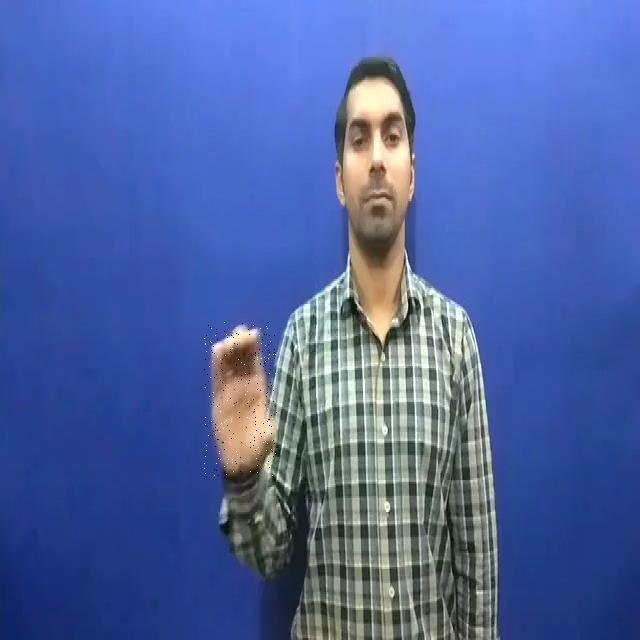pepper: (204, 322, 278, 476)
